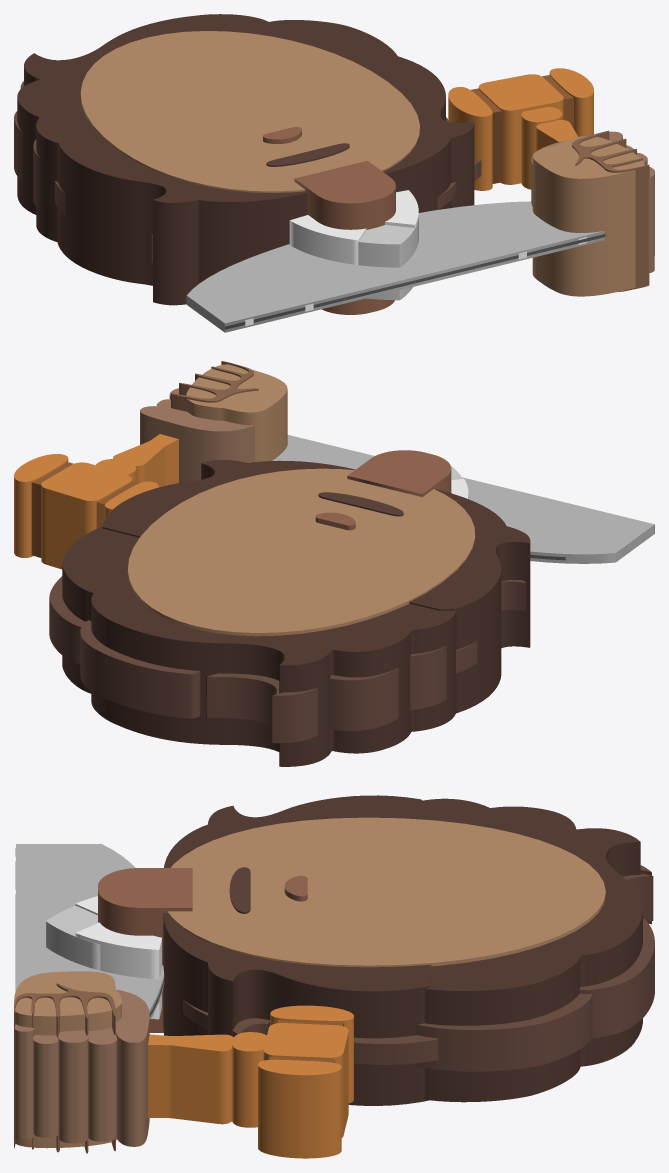
Rendered from emoji_u1f9d1_1f3fd_200d_2696.glb.
3 renders of one model, top to bottom at view 1: azimuth 30°, elevation 25°; view 2: azimuth 150°, elevation 25°; view 3: azimuth 270°, elevation 25°, orthographic. The views are drawn at different scales.
Parts seen in each view (by area): view 1: emoji_u1f9d1_1f3fd_200d_2696; view 2: emoji_u1f9d1_1f3fd_200d_2696; view 3: emoji_u1f9d1_1f3fd_200d_2696.
Part boxes in pixels (left/top/right/bottom): emoji_u1f9d1_1f3fd_200d_2696: left=14, top=14, right=654, bottom=332; emoji_u1f9d1_1f3fd_200d_2696: left=14, top=361, right=654, bottom=766; emoji_u1f9d1_1f3fd_200d_2696: left=14, top=795, right=654, bottom=1158.
Size of the model in its own units: 0.0331 by 0.0078 by 0.0335.
